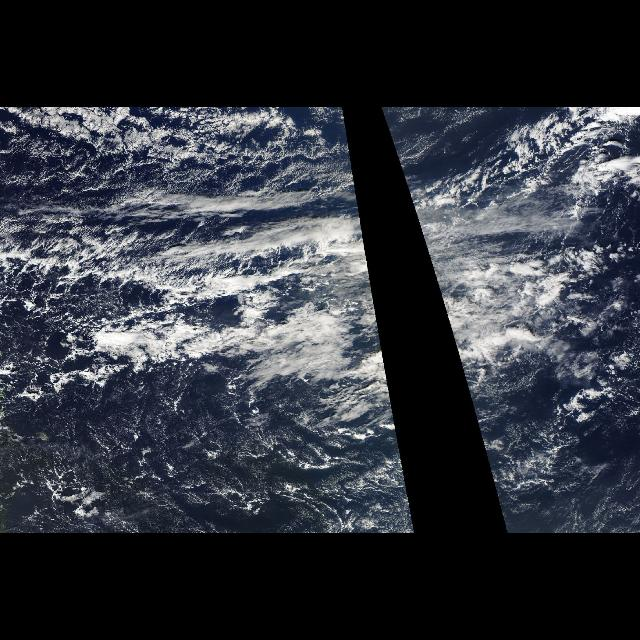Gravel: (1, 381, 412, 533), (5, 111, 335, 189)
Sugar: (473, 379, 639, 533)
